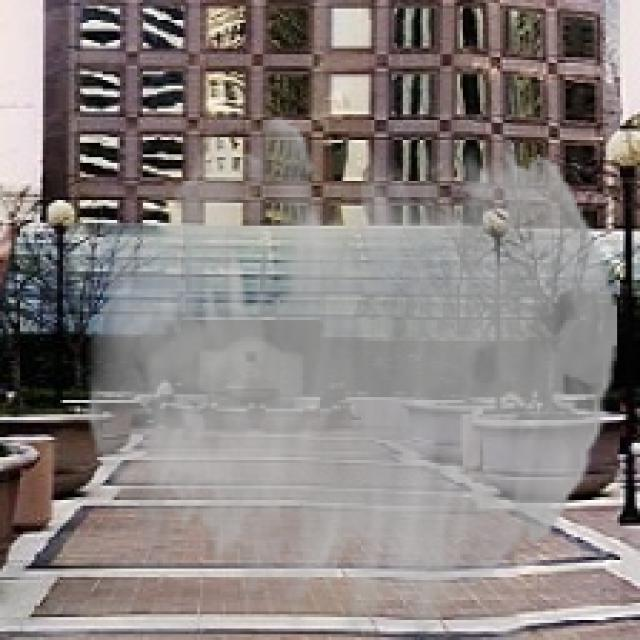Smoke: (85, 117, 618, 637)
